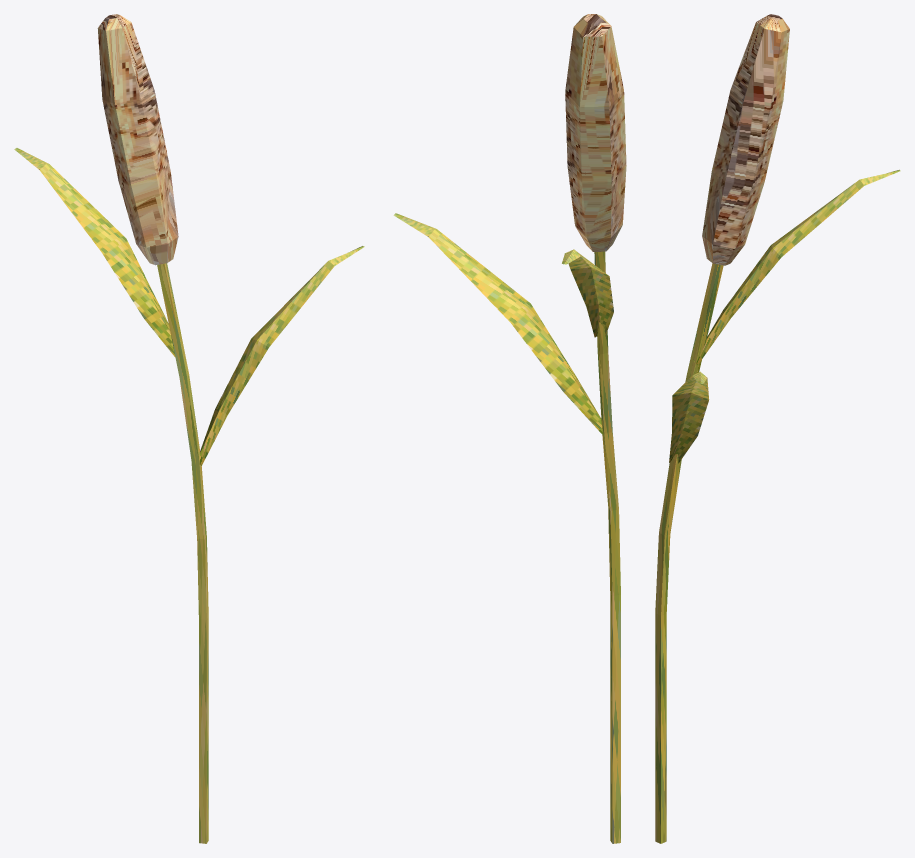
Rendered from Wheat.fbx.
3 renders of one model, left to right at view 1: azimuth 30°, elevation 25°; view 2: azimuth 150°, elevation 25°; view 3: azimuth 270°, elevation 25°, orthographic. The views are drawn at different scales.
Parts seen in each view (by area): view 1: Cylinder, Cylinder.001, Plane.001, Plane; view 2: Cylinder, Cylinder.001, Plane, Plane.001; view 3: Cylinder, Cylinder.001, Plane.001, Plane.
Part boxes in pixels (x1,y1,x2,y2): Cylinder: (97, 14, 178, 265); Cylinder.001: (157, 263, 208, 843); Plane.001: (14, 148, 185, 360); Plane: (199, 246, 364, 465); Cylinder: (565, 14, 626, 251); Cylinder.001: (594, 251, 620, 843); Plane: (393, 213, 603, 435); Plane.001: (562, 249, 613, 337); Cylinder: (702, 14, 789, 265); Cylinder.001: (655, 263, 723, 843); Plane.001: (693, 169, 900, 364); Plane: (669, 371, 709, 463).
Bounding box in the file's own units: 342 × 1027 × 283.
Materials: 4 (4 with a texture image).
